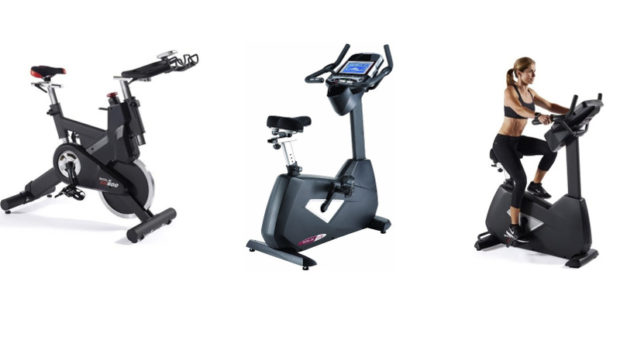gym_bike: (10, 39, 201, 254), (239, 38, 405, 278), (460, 91, 607, 272)
